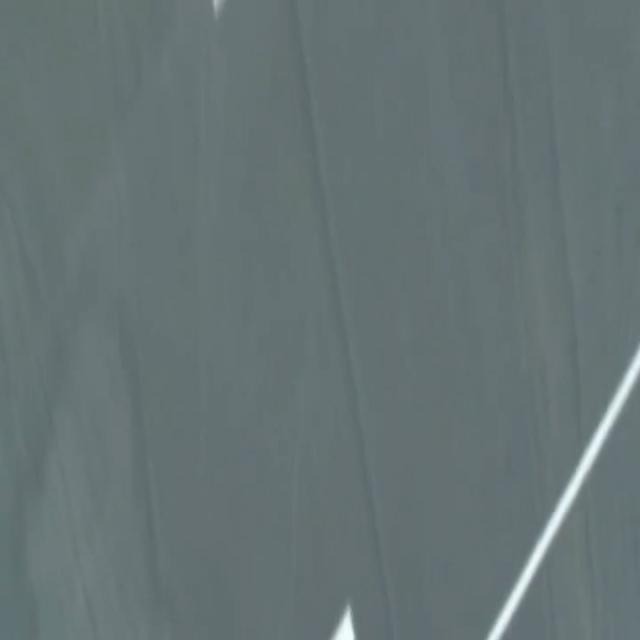center: (330, 604, 356, 639)
